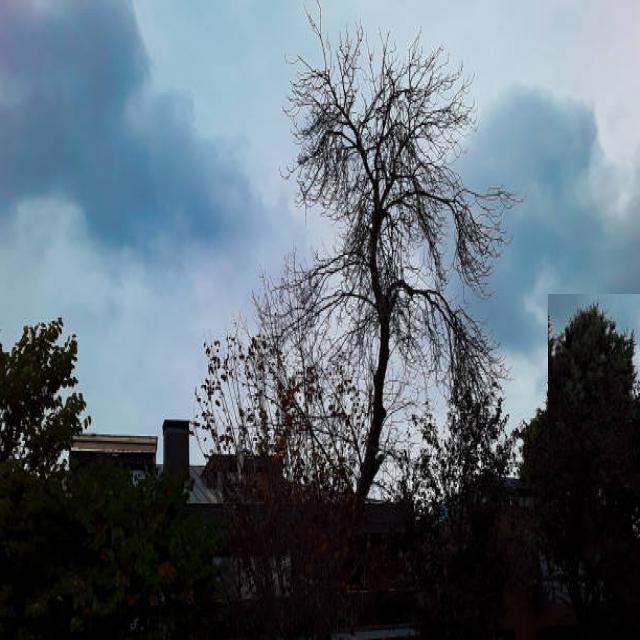tree: (268, 0, 507, 512), (0, 310, 86, 490), (548, 294, 640, 422)
